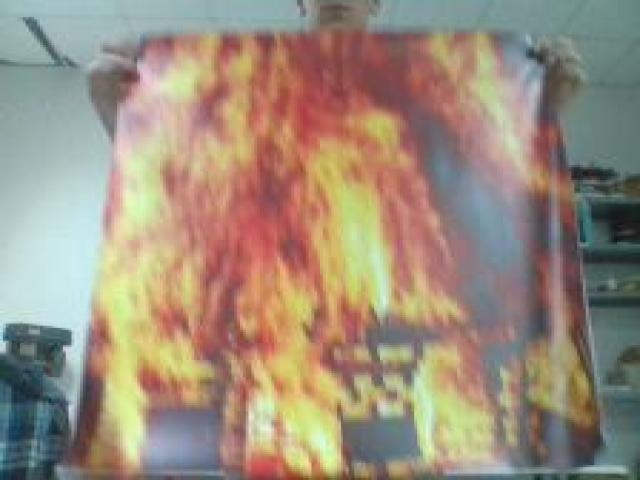fire-poster: (63, 28, 608, 478)
